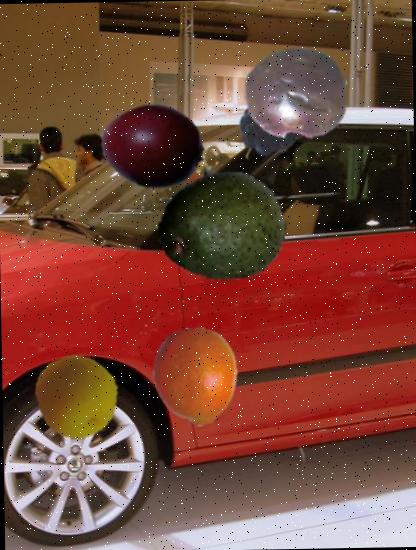Avocado: (157, 158, 285, 286)
Mulberry: (222, 68, 317, 163)
Passion: (241, 39, 350, 148)
Peach: (33, 352, 122, 440)
Tamarillo: (98, 92, 206, 199)
Tangelo: (145, 326, 246, 427)
